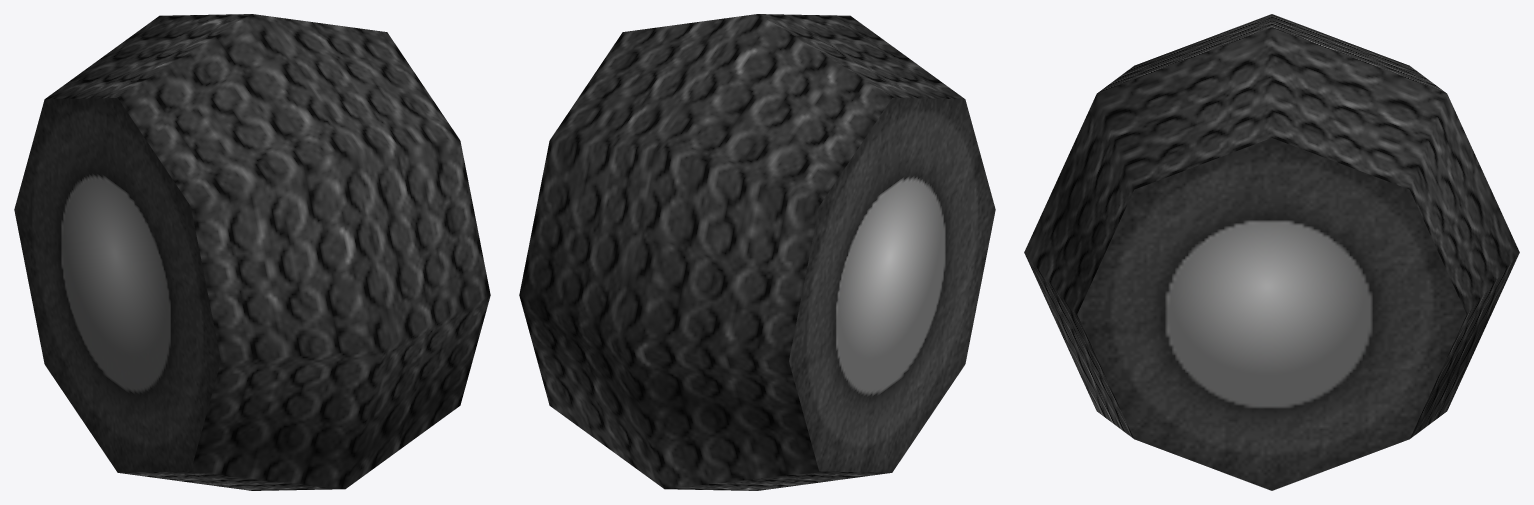
The model's file is pneu.obj.
3 views of the same model, side by side, from view 1: azimuth 30°, elevation 25°; view 2: azimuth 150°, elevation 25°; view 3: azimuth 270°, elevation 25° (orthographic). The views are drawn at different scales.
Parts seen in each view (by area): view 1: roue_libre; view 2: roue_libre; view 3: roue_libre.
Boxes of the visible parts, x1,y1,x2,y2 form: roue_libre: [14, 14, 490, 490]; roue_libre: [519, 14, 995, 490]; roue_libre: [1024, 14, 1519, 490].
Size of the model in its own units: 0.596 by 1.01 by 1.01.
Materials: 1 (1 with a texture image).
